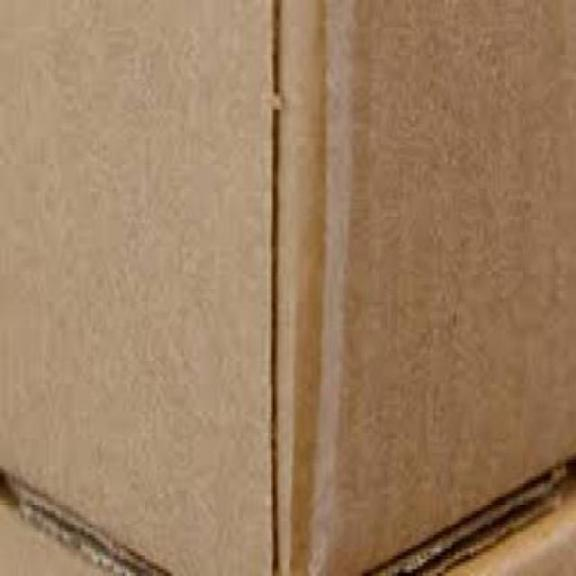Kertas: (0, 0, 574, 572)
